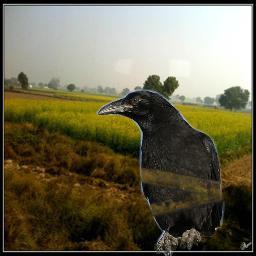Crow: (96, 89, 225, 256)
